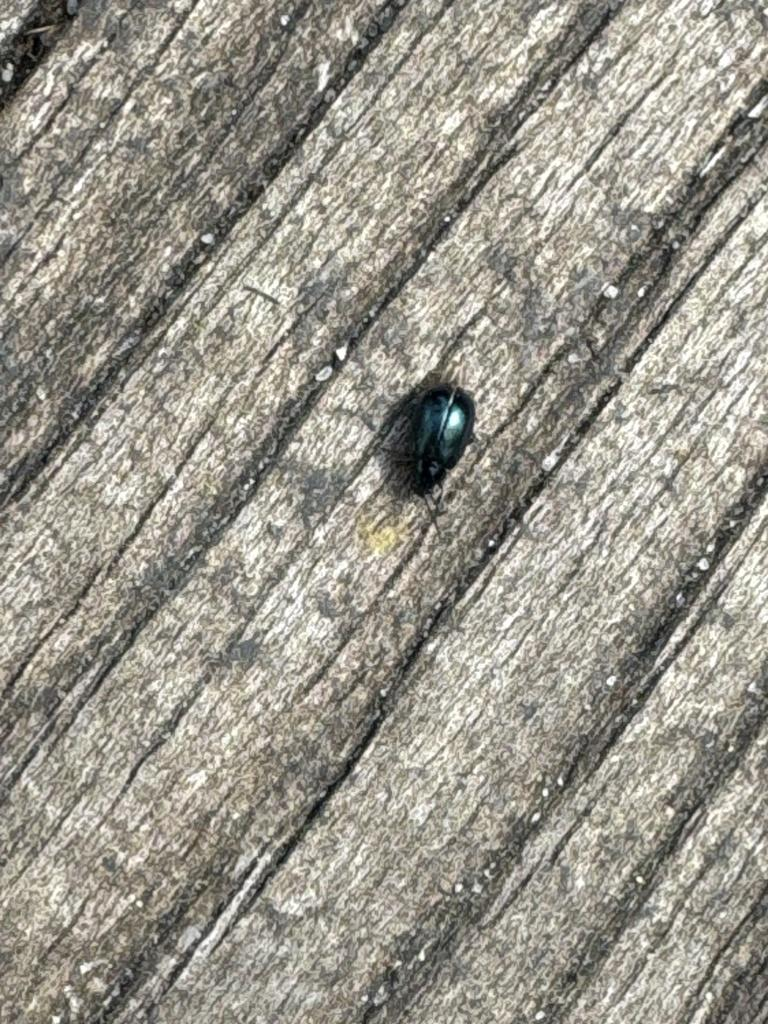flea_beetle: (339, 344, 522, 569)
